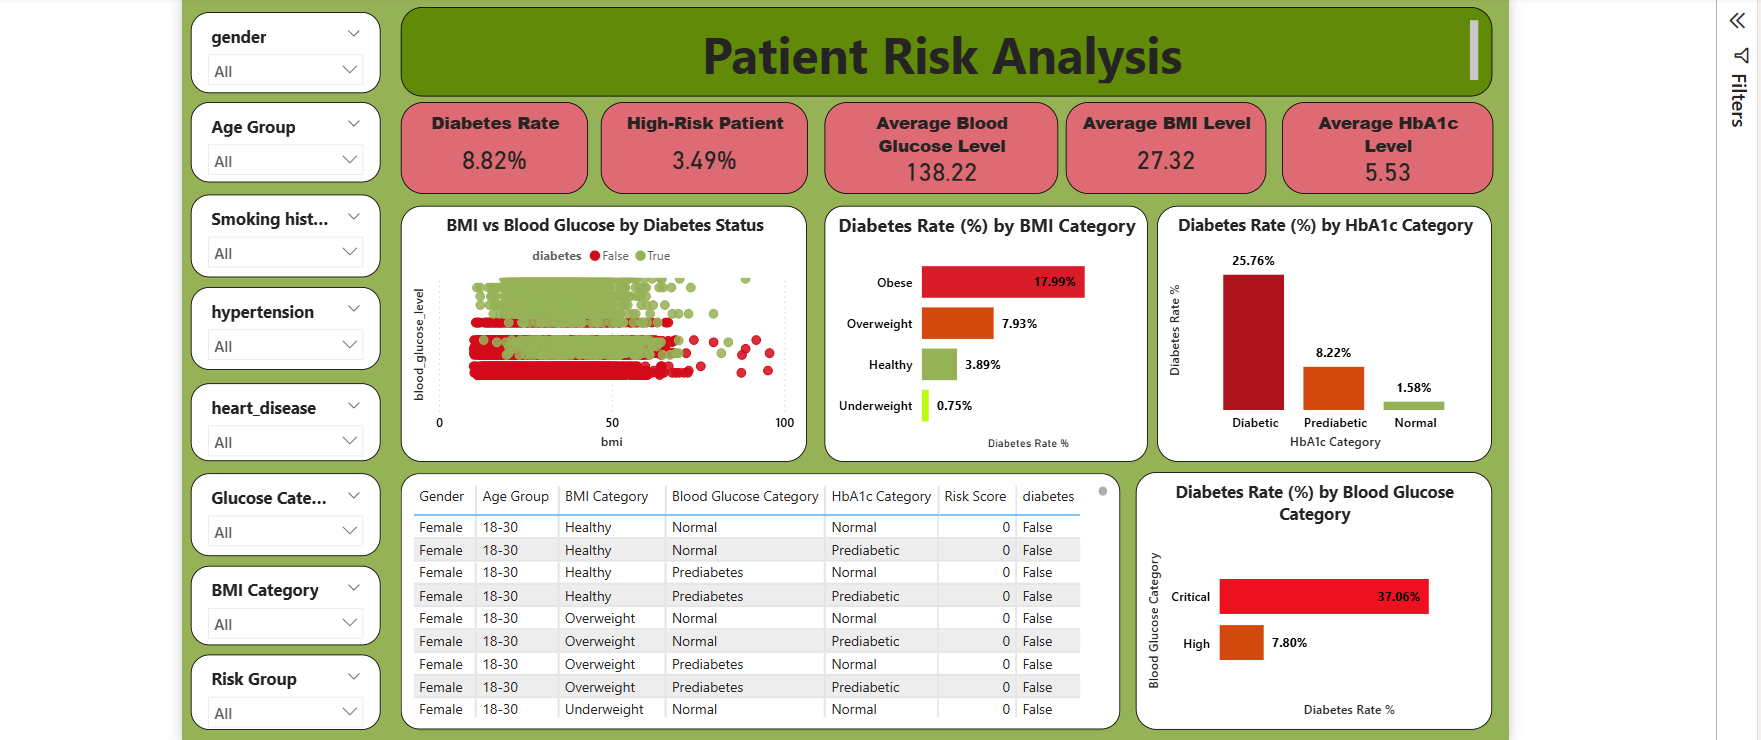

What the dashboard file says about the page in this screenshot:
{"tool":"powerbi","page":{"name":"Page 2","canvas":[1280,720],"ordinal":1},"visuals":[{"type":"scatterChart","title":"BMI vs Blood Glucose by Diabetes Status","fields":{"X":["diabetes_prediction_dataset.bmi"],"Y":["diabetes_prediction_dataset.blood_glucose_level"],"Series":["diabetes_prediction_dataset.diabetes"]},"box":[211.5,201.3,392.4,247.1],"z":0},{"type":"barChart","title":"Diabetes Rate (%) by Blood Glucose Category","fields":{"Y":["Measure.Diabetes Rate %"],"Category":["diabetes_prediction_dataset.Blood Glucose Category"]},"box":[921,458.6,344,248.4],"z":1000},{"type":"barChart","title":"Diabetes Rate (%) by BMI Category","fields":{"Category":["diabetes_prediction_dataset.BMI Category"],"Y":["Measure.Diabetes Rate %"]},"box":[620.4,201.3,312.1,247.1],"z":2000},{"type":"columnChart","title":"Diabetes Rate (%) by HbA1c Category","fields":{"Category":["diabetes_prediction_dataset.HbA1c Category"],"Y":["Measure.Diabetes Rate %"]},"box":[941.4,201.3,323.6,247.1],"z":3000},{"type":"tableEx","fields":{"Values":["diabetes_prediction_dataset.gender","diabetes_prediction_dataset.Age Group","diabetes_prediction_dataset.BMI Category","diabetes_prediction_dataset.Blood Glucose Category","diabetes_prediction_dataset.HbA1c Category","diabetes_prediction_dataset.Risk Score","diabetes_prediction_dataset.diabetes"]},"box":[211.5,459.9,694.3,247.1],"z":4000},{"type":"textbox","box":[211.5,10.2,1053.5,86.6],"z":5000},{"type":"card","title":"Average Blood Glucose Level","fields":{"Values":["Measure.Average Blood Glucose"]},"box":[620.4,101.9,225.5,89.2],"z":6000},{"type":"card","title":"Average BMI Level","fields":{"Values":["Measure.Average BMI"]},"box":[853.5,101.9,193.6,89.2],"z":7000},{"type":"card","title":"Average HbA1c Level","fields":{"Values":["Measure.Average HbA1c"]},"box":[1061.1,101.9,203.8,89.2],"z":8000},{"type":"card","title":"Diabetes Rate","fields":{"Values":["Measure.Diabetes Rate %"]},"box":[211.5,101.9,180.9,89.2],"z":9000},{"type":"slicer","fields":{"Values":["diabetes_prediction_dataset.Age Group"]},"box":[8.9,101.9,183.4,77.7],"z":10000},{"type":"slicer","fields":{"Values":["diabetes_prediction_dataset.gender"]},"box":[8.4,14.5,183.4,78.4],"z":11000},{"type":"slicer","fields":{"Values":["diabetes_prediction_dataset.smoking_history"]},"box":[8.9,191.1,183.4,80.3],"z":12000},{"type":"slicer","fields":{"Values":["diabetes_prediction_dataset.hypertension"]},"box":[8.9,280.3,183.4,80.3],"z":13000},{"type":"slicer","fields":{"Values":["diabetes_prediction_dataset.heart_disease"]},"box":[8.9,373.2,183.4,75.2],"z":14000},{"type":"slicer","fields":{"Values":["diabetes_prediction_dataset.Blood Glucose Category"]},"box":[8.9,459.9,183.4,80.3],"z":15000},{"type":"card","title":"High-Risk Patient","fields":{"Values":["diabetes_prediction_dataset.High Risk Rate %"]},"box":[403.8,101.9,200,89.2],"z":16000},{"type":"slicer","fields":{"Values":["diabetes_prediction_dataset.BMI Category"]},"box":[8.9,549,183.4,76.4],"z":17000},{"type":"slicer","fields":{"Values":["diabetes_prediction_dataset.Risk Group"]},"box":[8.9,634.4,183.4,72.6],"z":18000}]}

Visuals, with their boxes on the page's 1280x720 design canvas (x1, y1, x2, y2). These are canvas units, not pixel positions in the 1761x740 screenshot, which may show the page scaled, cropped or inside an application window:
"BMI vs Blood Glucose by Diabetes Status" scatterChart: left=212, top=201, right=604, bottom=448
"Diabetes Rate (%) by Blood Glucose Category" barChart: left=921, top=459, right=1265, bottom=707
"Diabetes Rate (%) by BMI Category" barChart: left=620, top=201, right=932, bottom=448
"Diabetes Rate (%) by HbA1c Category" columnChart: left=941, top=201, right=1265, bottom=448
tableEx - diabetes_prediction_dataset.gender x diabetes_prediction_dataset.Age Group: left=212, top=460, right=906, bottom=707
textbox: left=212, top=10, right=1265, bottom=97
"Average Blood Glucose Level" card: left=620, top=102, right=846, bottom=191
"Average BMI Level" card: left=854, top=102, right=1047, bottom=191
"Average HbA1c Level" card: left=1061, top=102, right=1265, bottom=191
"Diabetes Rate" card: left=212, top=102, right=392, bottom=191
slicer - diabetes_prediction_dataset.Age Group: left=9, top=102, right=192, bottom=180
slicer - diabetes_prediction_dataset.gender: left=8, top=14, right=192, bottom=93
slicer - diabetes_prediction_dataset.smoking_history: left=9, top=191, right=192, bottom=271
slicer - diabetes_prediction_dataset.hypertension: left=9, top=280, right=192, bottom=361
slicer - diabetes_prediction_dataset.heart_disease: left=9, top=373, right=192, bottom=448
slicer - diabetes_prediction_dataset.Blood Glucose Category: left=9, top=460, right=192, bottom=540
"High-Risk Patient" card: left=404, top=102, right=604, bottom=191
slicer - diabetes_prediction_dataset.BMI Category: left=9, top=549, right=192, bottom=625
slicer - diabetes_prediction_dataset.Risk Group: left=9, top=634, right=192, bottom=707
